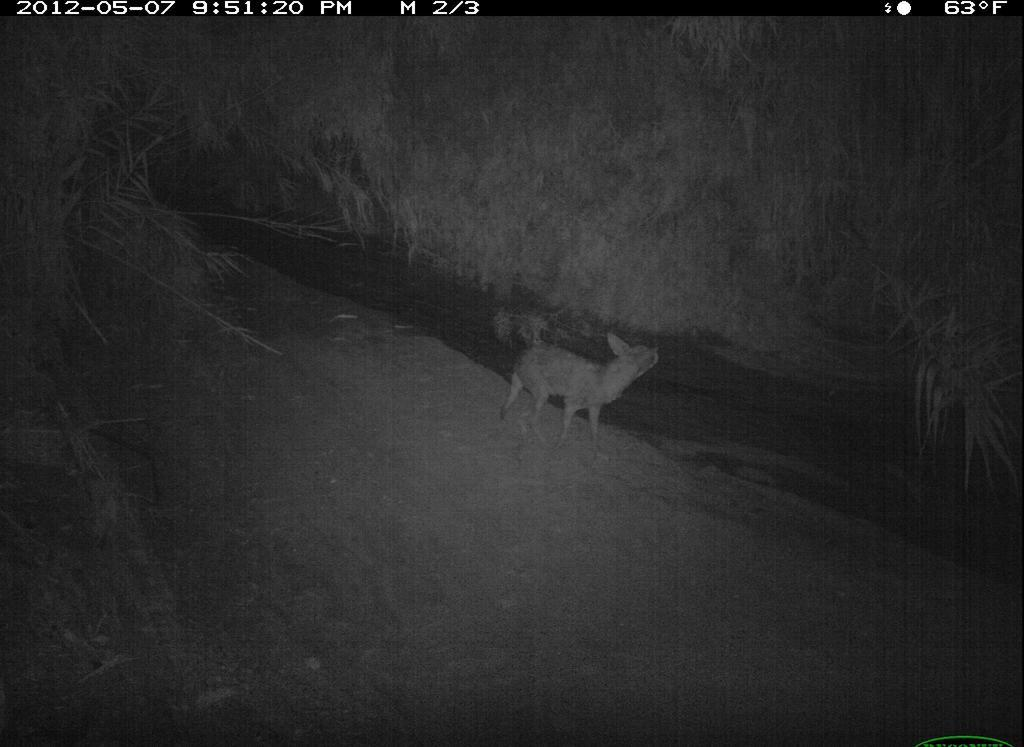coyote: (991, 654, 1024, 747)
